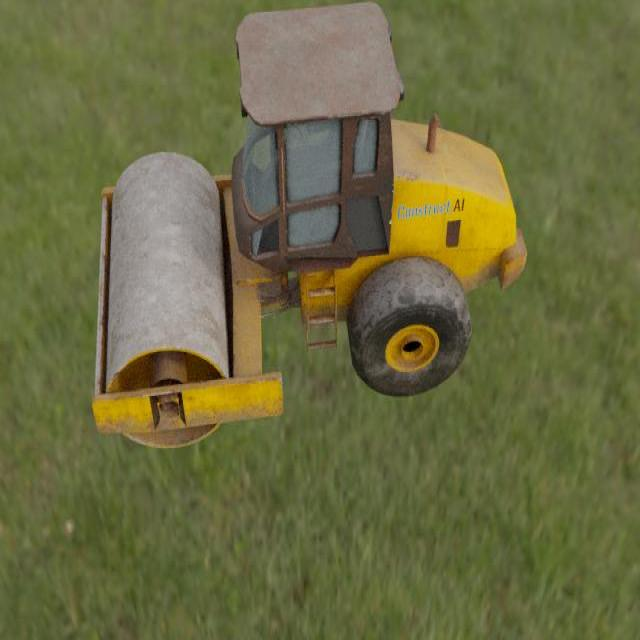Roller: (91, 1, 527, 448)
